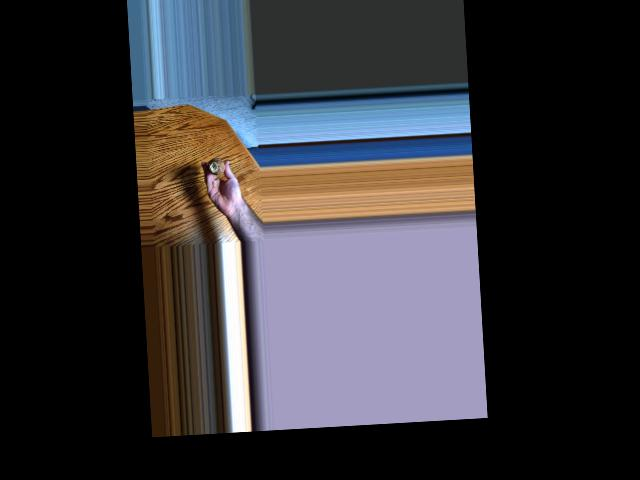sweet_potato: (208, 157, 227, 173)
